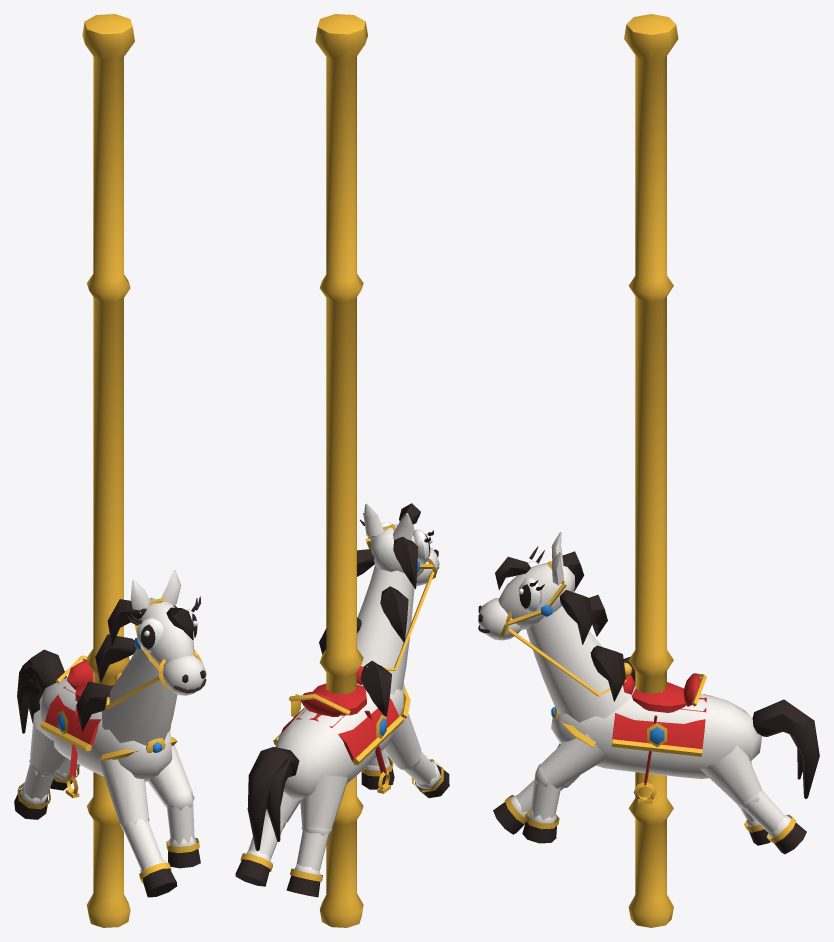
The model's file is carousel_horse.glb.
3 renders of one model, left to right at view 1: azimuth 30°, elevation 25°; view 2: azimuth 150°, elevation 25°; view 3: azimuth 270°, elevation 25°, orthographic.
Visible parts, largest first — view 1: body; view 2: body; view 3: body.
Boxes of the visible parts, <box> form: body: <box>14,14,206,927</box>; body: <box>235,14,449,927</box>; body: <box>478,14,819,927</box>.
Bounding box in the file's own units: 0.2345 × 2.2 × 0.7528.
